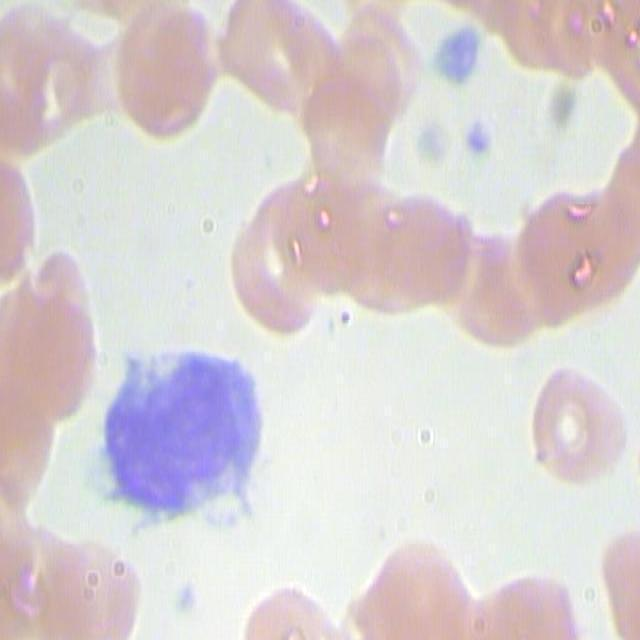Platelets: (429, 21, 482, 87), (462, 110, 498, 158), (165, 574, 201, 622)
RBC: (1, 243, 100, 416), (514, 356, 633, 496), (209, 202, 328, 342), (247, 158, 366, 298), (310, 180, 429, 320), (356, 174, 475, 314), (399, 204, 518, 344), (437, 214, 556, 354), (506, 182, 625, 322), (292, 36, 411, 176), (113, 1, 232, 140), (217, 1, 336, 140), (358, 530, 478, 640)
WBC: (91, 340, 272, 536)
